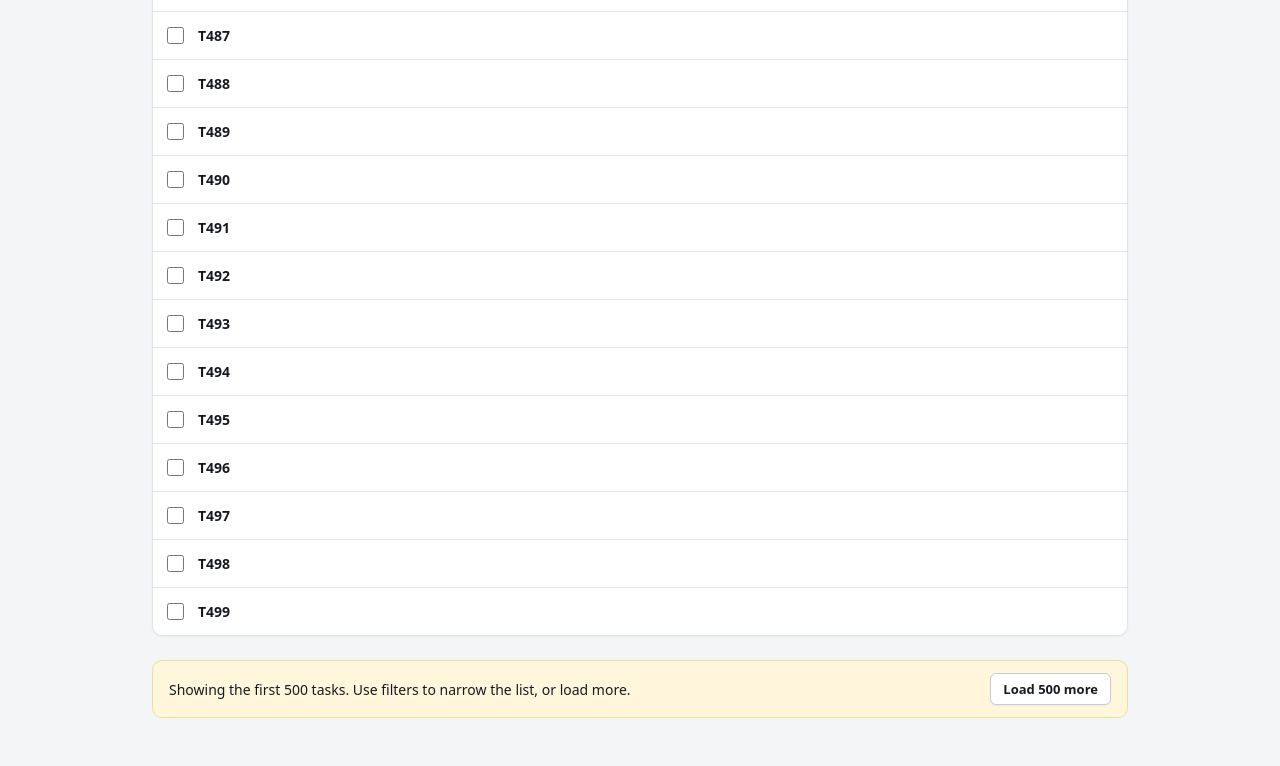
Test: MyTasksPage paging › says when the list may be incomplete and loads more on request
The image size is (1280, 766).
(page scrolled)
Expected: the text "Showing the first 500 tasks. Use filters to narrow the list, or load more." is shown, [169,680,631,699]
Click the button "Load 500 more".
click(1051, 689)  # box [990,673,1111,705]
(page scrolled)
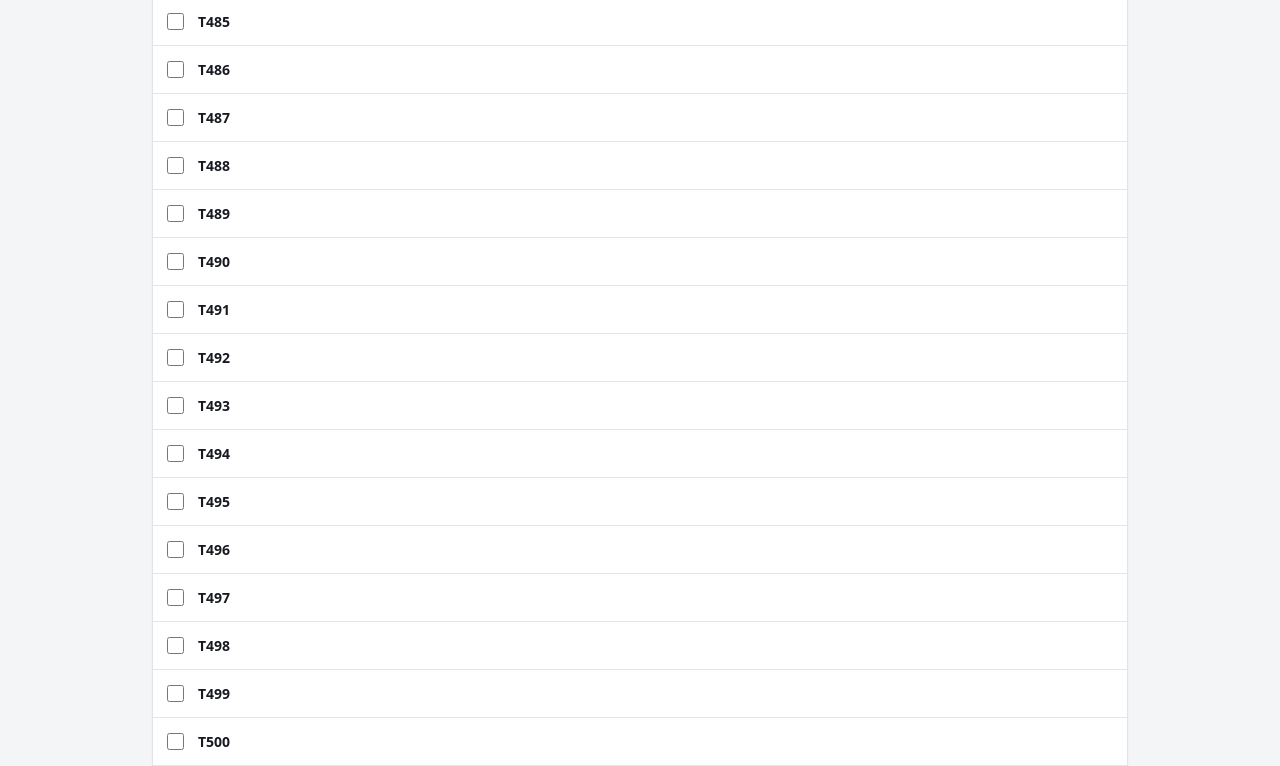
Expected: the text "Showing the first" is gone
